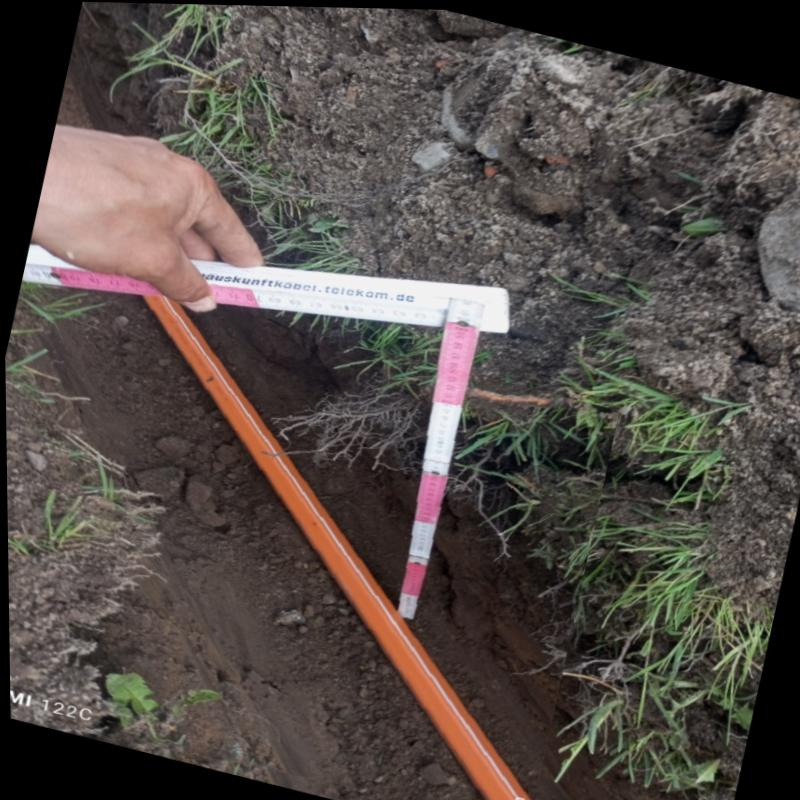Orang-Speednetrohrchen: (142, 296, 522, 800)
